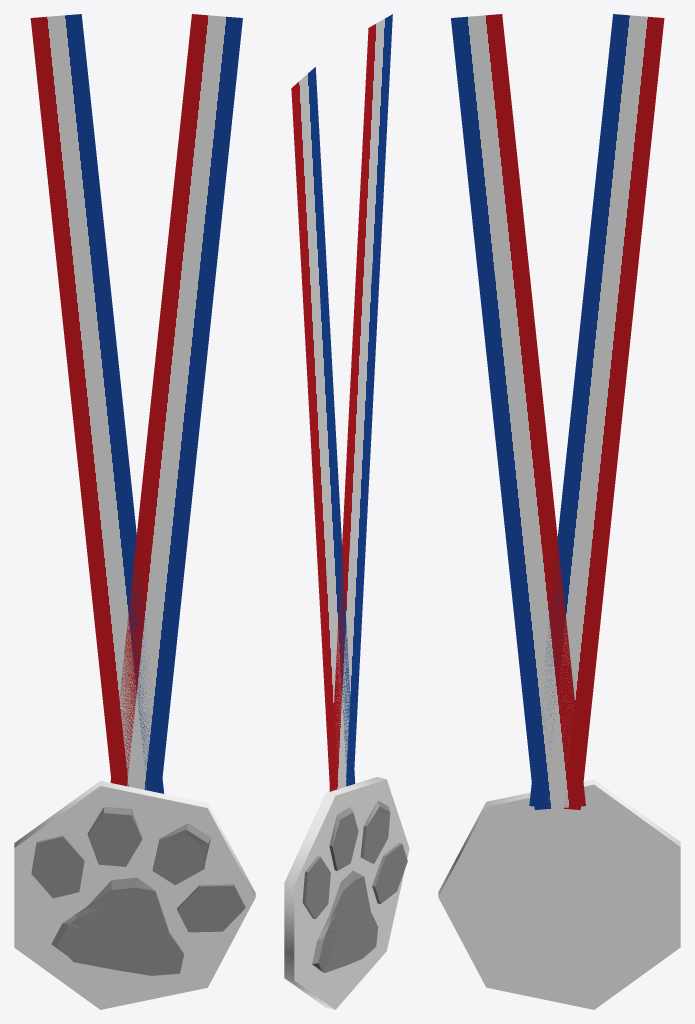
File: medalSilver.FBX
3 views of the same model, side by side, from view 1: azimuth 90°, elevation 25°; view 2: azimuth 150°, elevation 25°; view 3: azimuth 270°, elevation 25° (orthographic). The views are drawn at different scales.
Parts seen in each view (by area): view 1: Box236; view 2: Box236; view 3: Box236.
Boxes of the visible parts, x1,y1,x2,y2 form: Box236: (14, 14, 255, 1009); Box236: (284, 14, 409, 1009); Box236: (438, 14, 680, 1009).
Bounding box in the file's own units: 0.5628 × 35.33 × 7.79.
